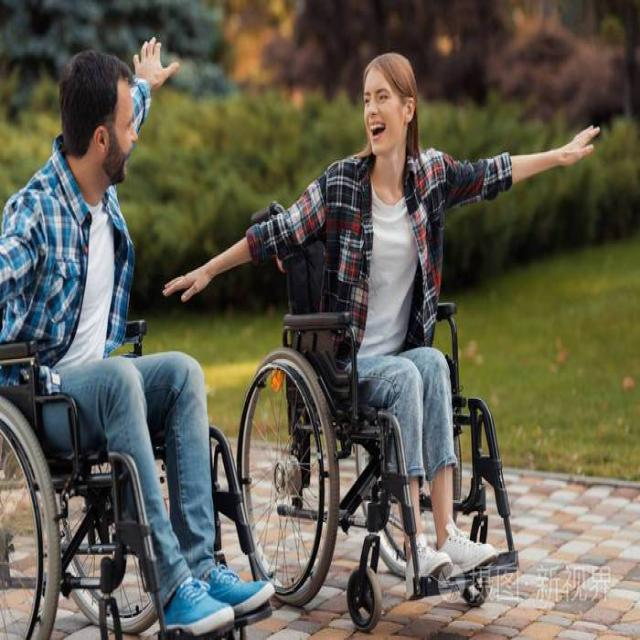wheelchairs: (229, 192, 526, 634), (0, 311, 275, 640)
